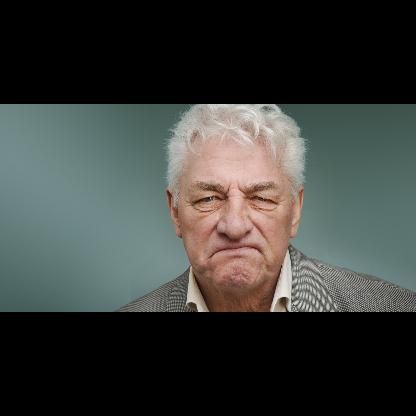Male: (166, 127, 304, 291)
